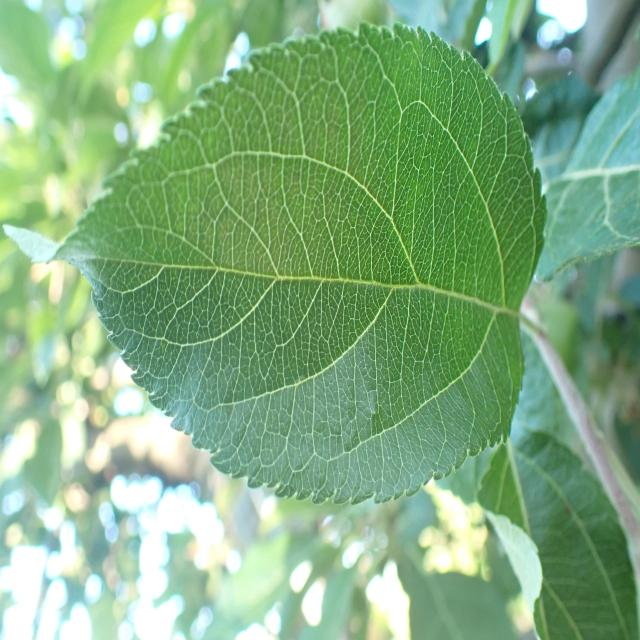healthy: (6, 20, 547, 508), (476, 428, 640, 640), (532, 68, 640, 282)
